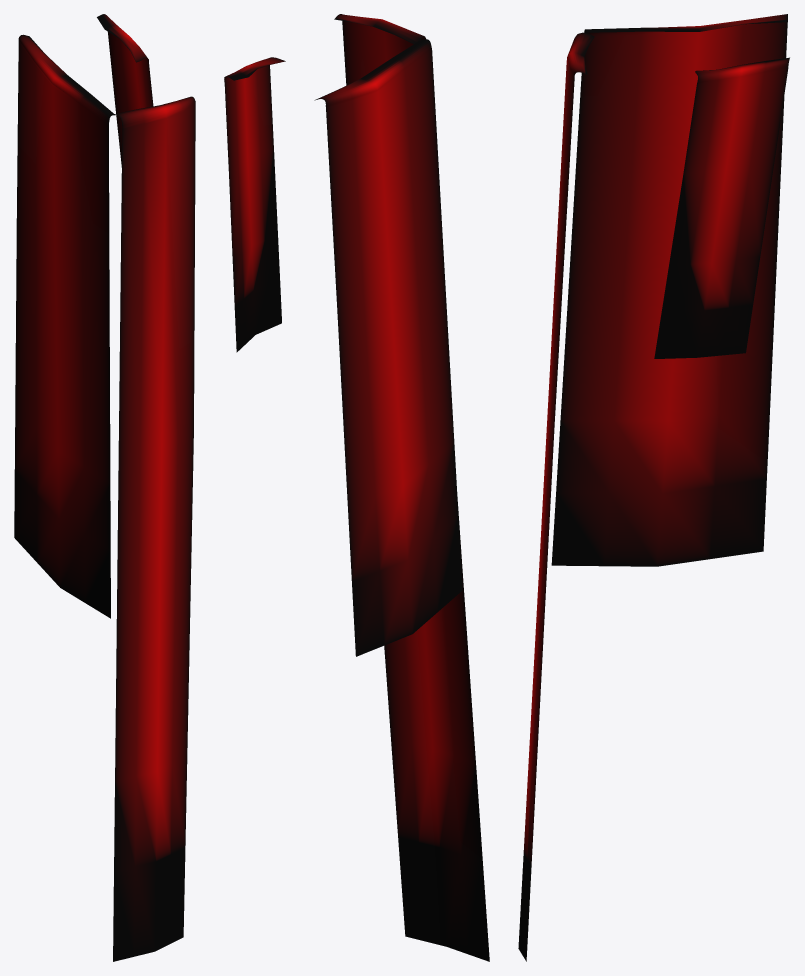
The model's file is Bathtop_Water_Flow_01.fbx.
3 views of the same model, side by side, from view 1: azimuth 30°, elevation 25°; view 2: azimuth 150°, elevation 25°; view 3: azimuth 270°, elevation 25° (orthographic). The views are drawn at different scales.
Visible parts, largest first — view 1: Bathtop_water_Flow; view 2: Bathtop_water_Flow; view 3: Bathtop_water_Flow.
Boxes of the visible parts, box(x1,y1,x2,y2) form: Bathtop_water_Flow: box(14, 14, 195, 961); Bathtop_water_Flow: box(224, 14, 489, 961); Bathtop_water_Flow: box(518, 14, 789, 961).
Size of the model in its own units: 2025 by 12772 by 3387.
